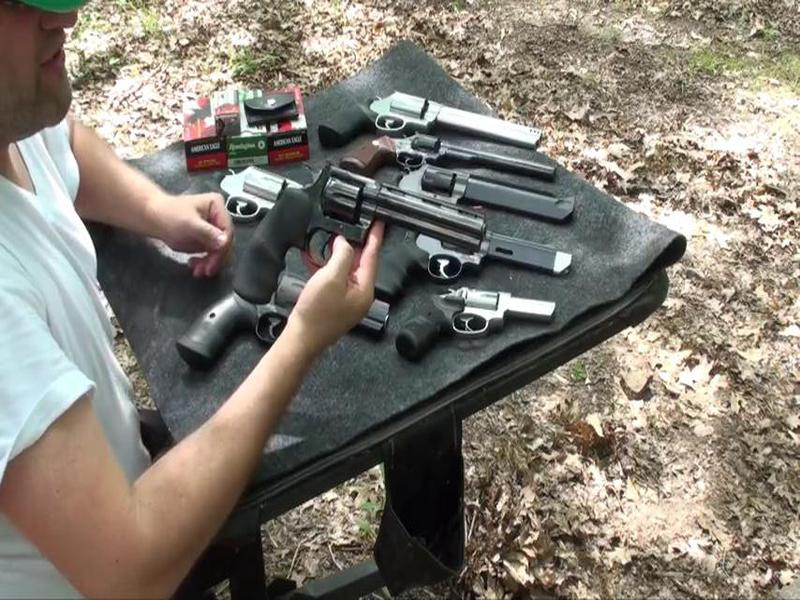Revolver: (238, 153, 462, 314)
